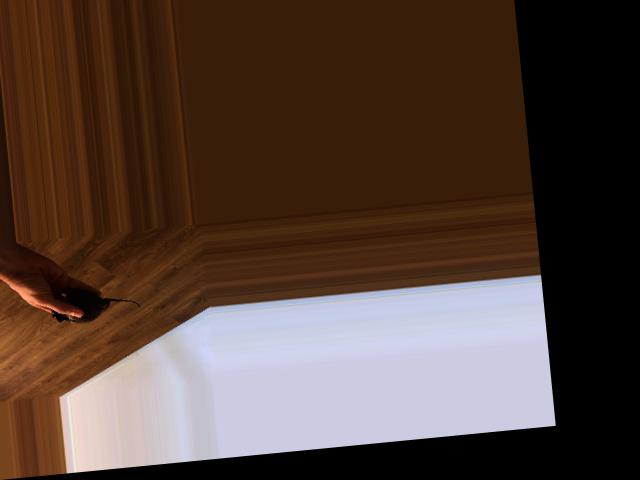beet: (49, 285, 142, 325)
